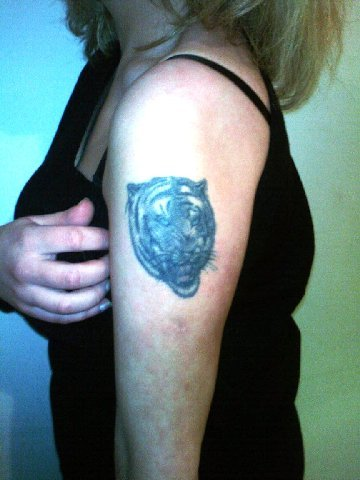tatu5_tigr: (126, 175, 218, 299)
